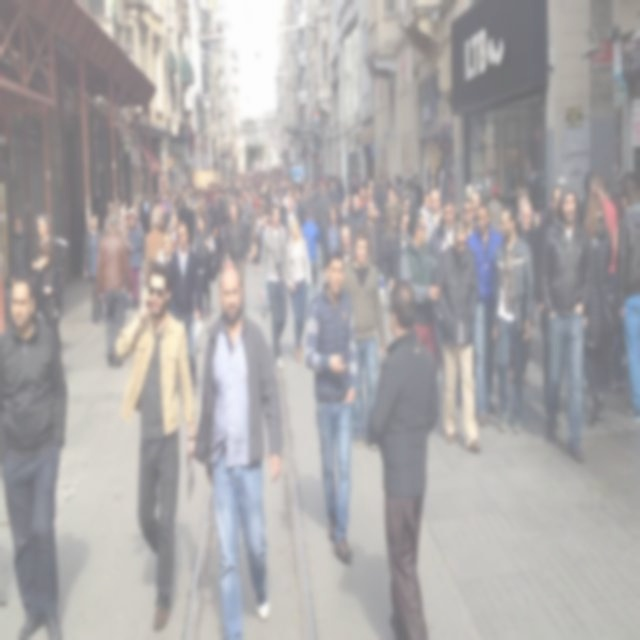pessoa: (190, 257, 286, 639), (360, 273, 444, 639), (115, 260, 197, 632), (0, 268, 70, 639), (304, 243, 362, 570), (534, 180, 592, 466), (430, 214, 483, 456), (489, 201, 535, 436), (340, 228, 388, 451), (581, 170, 626, 394), (464, 198, 506, 430), (577, 186, 614, 430), (530, 181, 564, 428), (256, 202, 297, 374), (399, 208, 441, 371), (616, 168, 640, 427), (94, 208, 132, 371), (168, 218, 202, 396), (508, 200, 538, 388), (32, 235, 66, 358), (284, 216, 312, 365), (215, 164, 293, 204), (222, 201, 251, 308), (378, 208, 411, 302), (82, 208, 106, 330), (192, 209, 217, 323), (300, 206, 322, 322), (124, 210, 145, 312), (362, 197, 386, 283), (428, 197, 458, 263), (255, 209, 272, 320), (28, 210, 56, 272), (9, 213, 32, 287), (315, 184, 333, 272), (344, 192, 367, 256), (118, 222, 134, 312), (191, 196, 212, 256), (381, 185, 402, 244), (144, 206, 166, 262), (515, 184, 540, 231), (358, 186, 386, 227), (417, 188, 437, 245), (424, 188, 444, 245), (423, 156, 453, 192), (211, 198, 225, 274), (524, 149, 545, 199), (240, 202, 258, 260), (280, 192, 300, 244), (323, 204, 343, 256), (608, 162, 626, 218), (292, 171, 316, 212), (154, 174, 176, 218), (335, 221, 355, 268), (487, 180, 505, 232), (176, 192, 194, 244), (364, 168, 395, 198), (394, 194, 414, 238), (578, 169, 592, 228), (156, 228, 176, 268), (126, 198, 144, 238), (113, 205, 131, 244), (204, 191, 218, 241), (175, 181, 198, 211), (460, 198, 476, 240), (462, 180, 485, 208), (93, 192, 108, 232), (339, 192, 354, 230), (510, 147, 522, 192), (255, 201, 270, 236), (400, 174, 416, 206), (412, 170, 424, 210), (103, 200, 115, 236), (140, 200, 152, 236), (328, 180, 341, 208), (344, 168, 358, 193), (392, 182, 406, 206), (170, 212, 180, 244), (358, 183, 368, 213), (198, 182, 215, 198), (334, 174, 344, 198), (406, 177, 416, 195), (316, 172, 332, 183), (139, 196, 143, 226), (454, 204, 461, 219), (203, 197, 208, 215), (316, 182, 322, 196), (142, 192, 150, 202), (324, 182, 330, 195), (120, 196, 129, 204)
